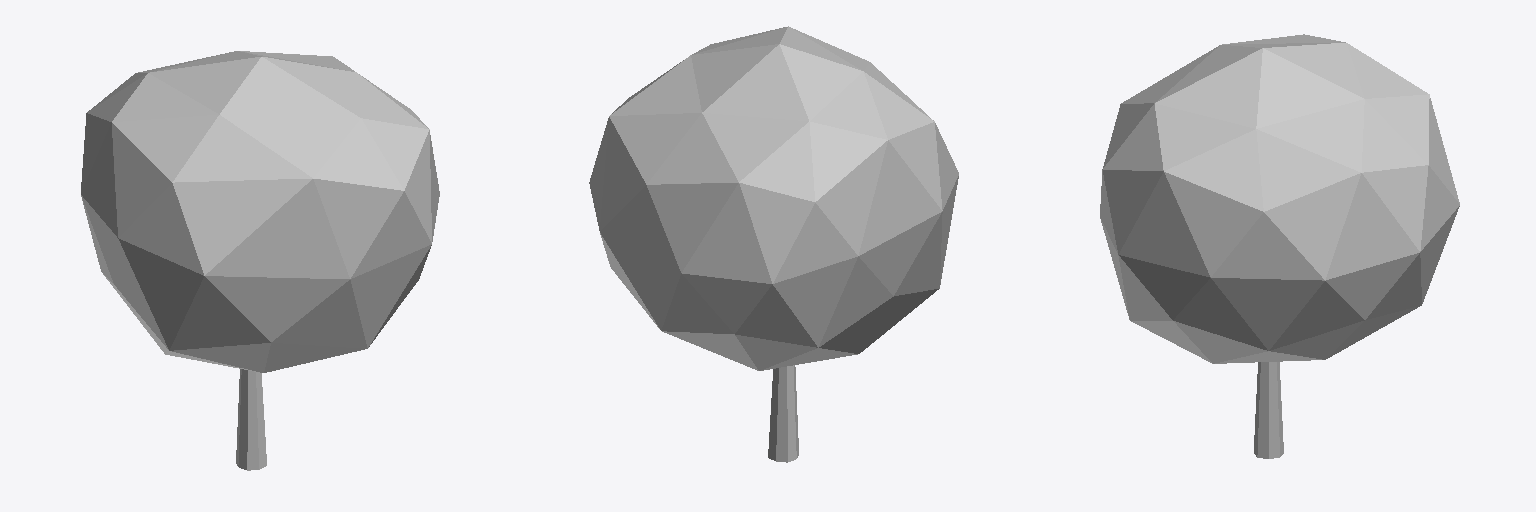
The model's file is tree-ash2.obj.
The picture shows the model from 3 angles: view 1: azimuth 30°, elevation 25°; view 2: azimuth 150°, elevation 25°; view 3: azimuth 270°, elevation 25°; orthographic projection.
Parts seen in each view (by area): view 1: stalk_Cube.001; view 2: stalk_Cube.001; view 3: stalk_Cube.001.
Part boxes in pixels (left/top/right/bottom): stalk_Cube.001: left=81, top=51, right=439, bottom=470; stalk_Cube.001: left=589, top=26, right=958, bottom=462; stalk_Cube.001: left=1100, top=34, right=1459, bottom=458.
Size of the model in its own units: 4.83 by 6.1 by 4.83.